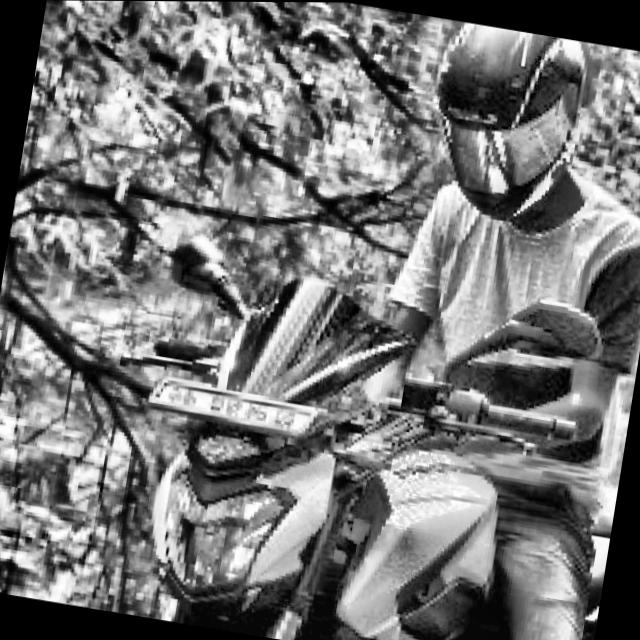motorcycle: (92, 212, 640, 640)
